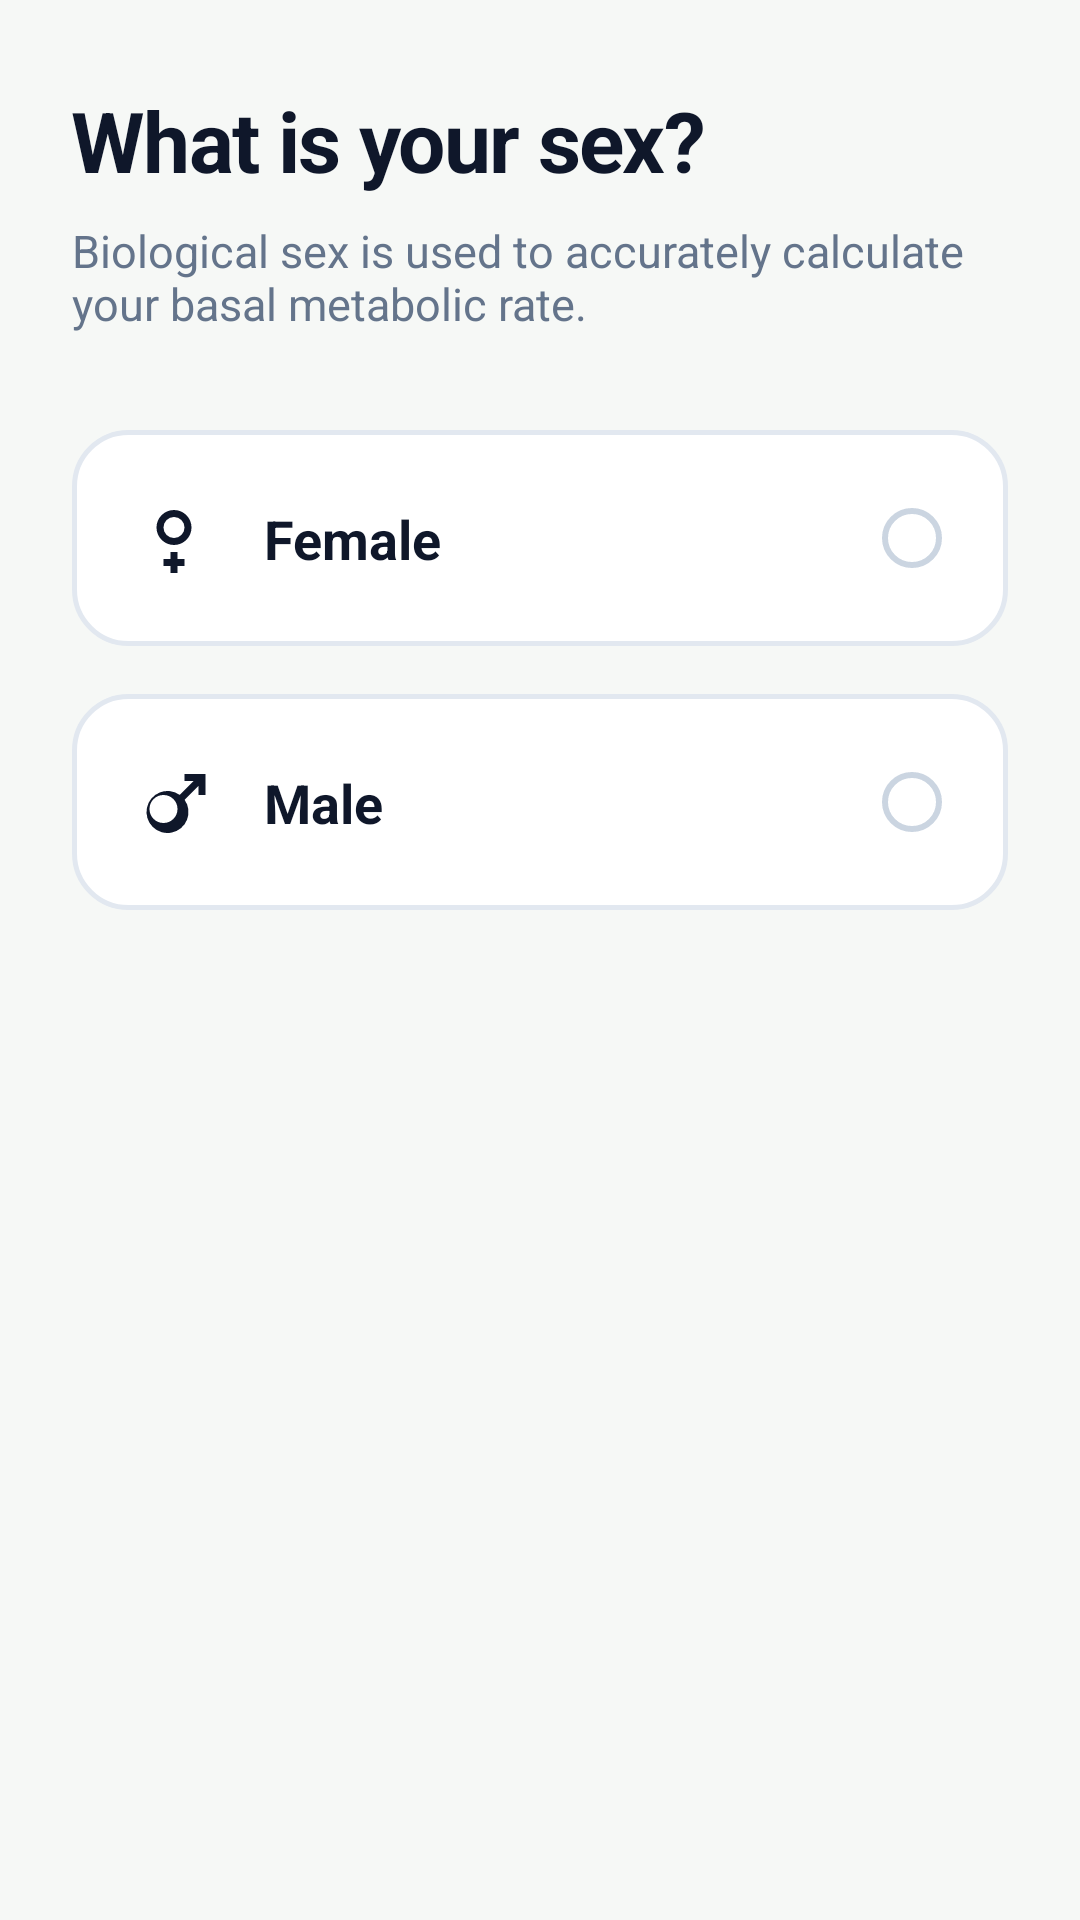

Named icons in this screenshot (1080x1920) and their bounding boxes, [x1=x1, y1=y1, x2=x2, y2=y2]:
radio: [x1=882, y1=508, x2=942, y2=568], [x1=882, y1=772, x2=942, y2=832]
